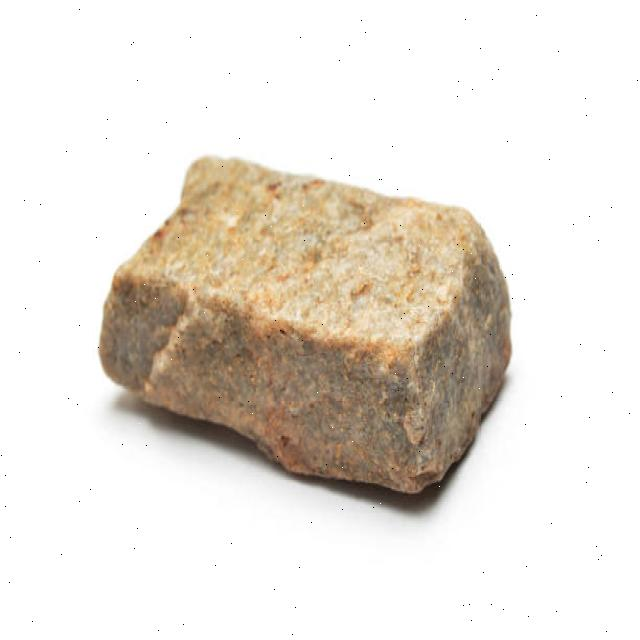Sedimentary: (98, 148, 517, 500)
